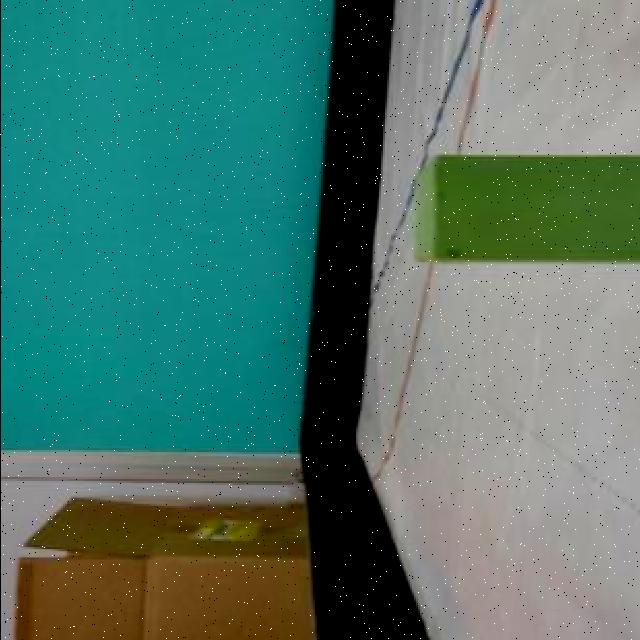greenbox: (409, 150, 640, 264)
